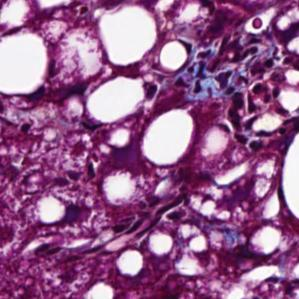inflammation: (182, 40, 266, 102), (213, 89, 278, 154)
